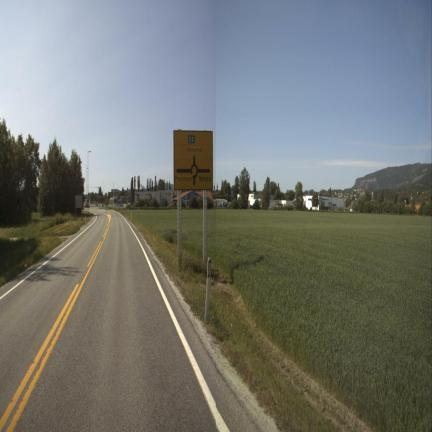Road: (0, 210, 273, 430)
